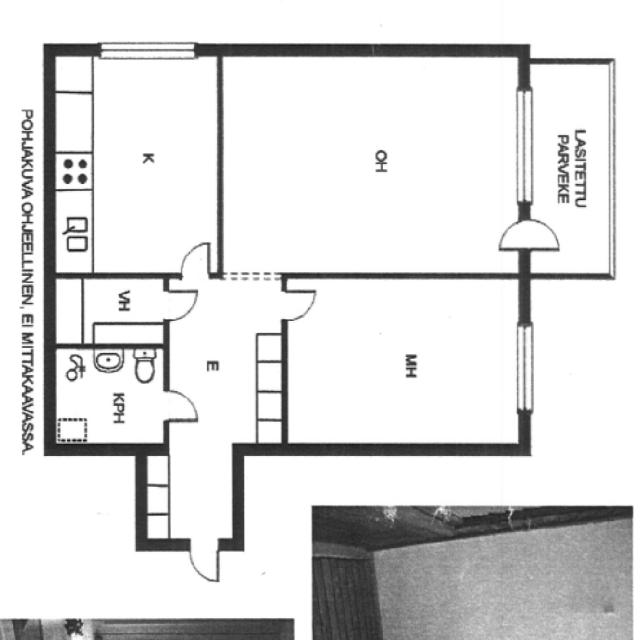door: (491, 212, 564, 254), (274, 280, 322, 325), (156, 282, 204, 326), (183, 537, 224, 587), (157, 384, 205, 426), (173, 237, 216, 282)
window: (509, 80, 542, 212), (508, 314, 540, 419), (95, 36, 204, 64), (217, 265, 286, 295)
zone: (227, 55, 521, 276), (282, 274, 527, 454), (49, 49, 223, 276), (165, 277, 286, 447), (49, 342, 167, 449), (138, 446, 238, 544), (49, 275, 169, 347)
